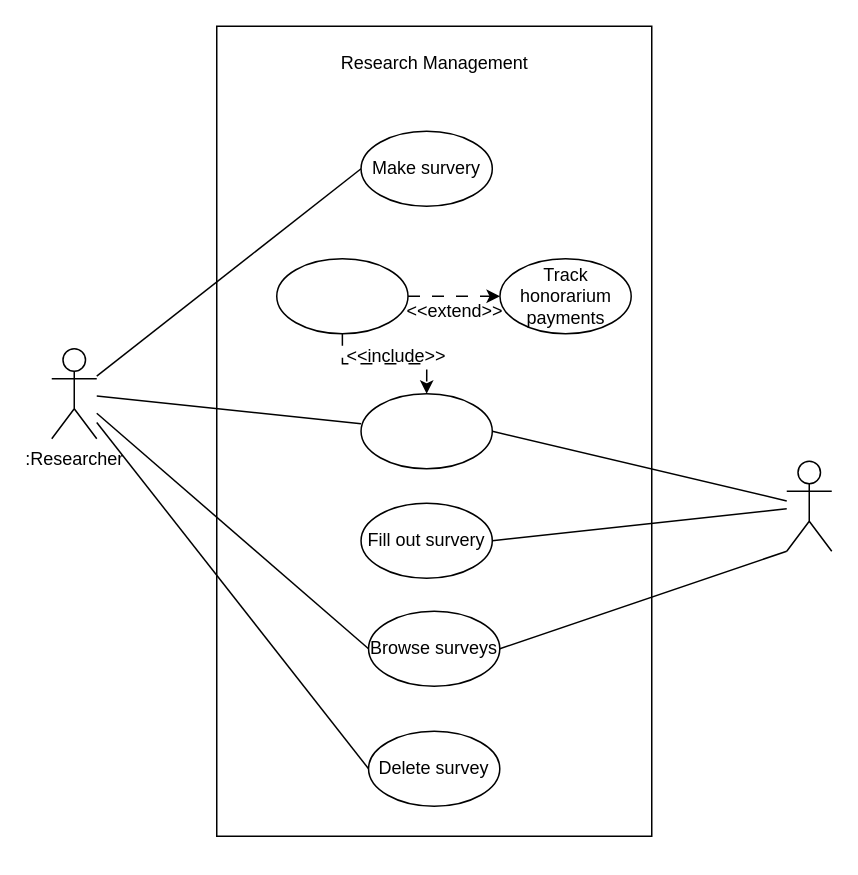
Some shapes in this 858 by 875 pixel diagram are drawn without their labels. Each missing label, with the centre of its shape:
:User: the point at 808,505
Give consent: the point at 426,430
Publish survey: the point at 341,295
